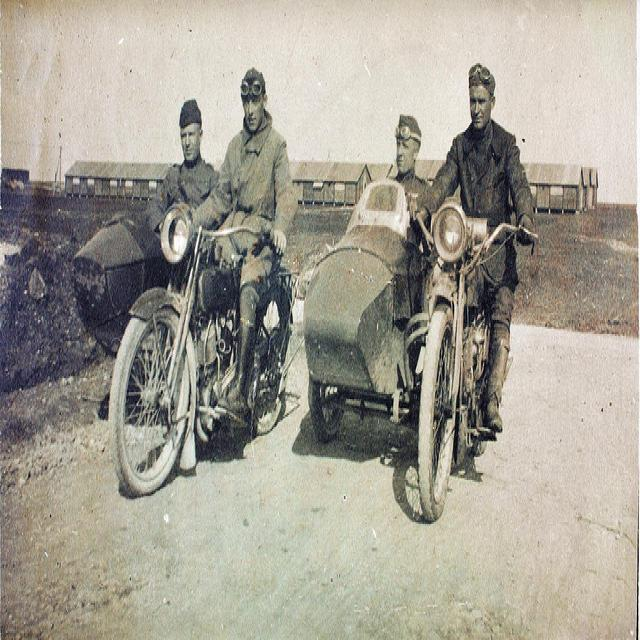motor: (110, 199, 271, 494), (402, 203, 542, 522)
